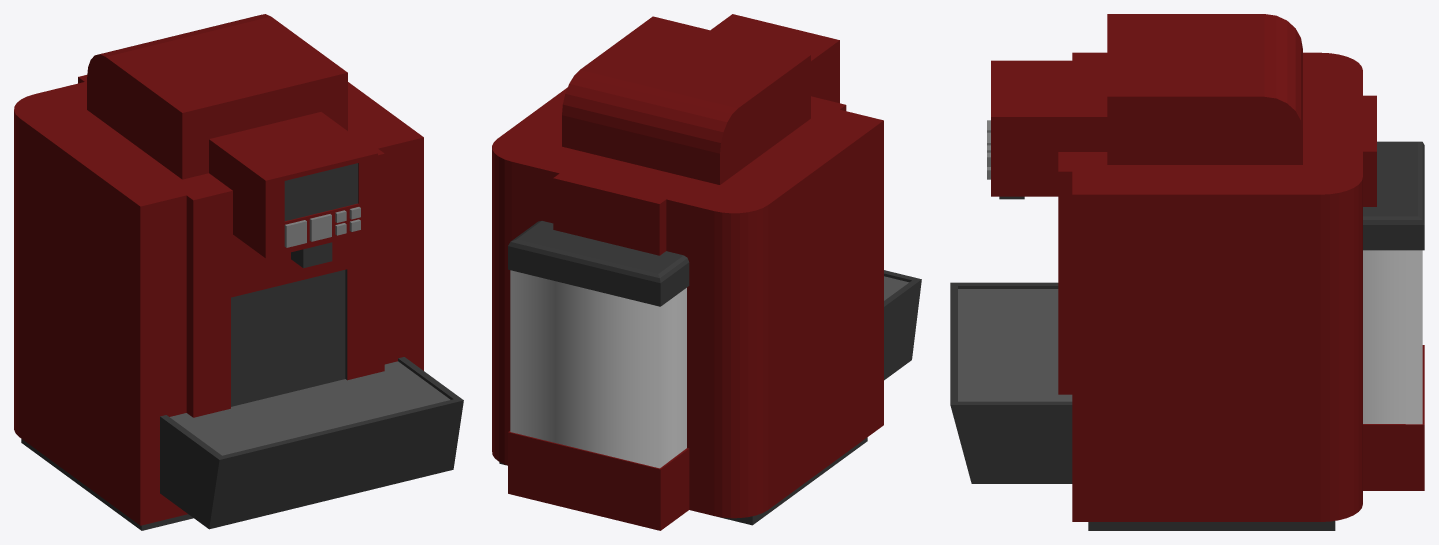
Rendered from CoffeeMachine.fbx.
3 renders of one model, left to right at view 1: azimuth 30°, elevation 25°; view 2: azimuth 150°, elevation 25°; view 3: azimuth 270°, elevation 25°, orthographic. The views are drawn at different scales.
Visible parts, largest first — view 1: CoffeeMachine; view 2: CoffeeMachine; view 3: CoffeeMachine.
Boxes of the visible parts, box(x1,y1,x2,y2) form: CoffeeMachine: box(14, 14, 463, 530); CoffeeMachine: box(492, 14, 921, 530); CoffeeMachine: box(950, 14, 1424, 530).
Bounding box in the file's own units: 47.2 × 63.45 × 66.65.
